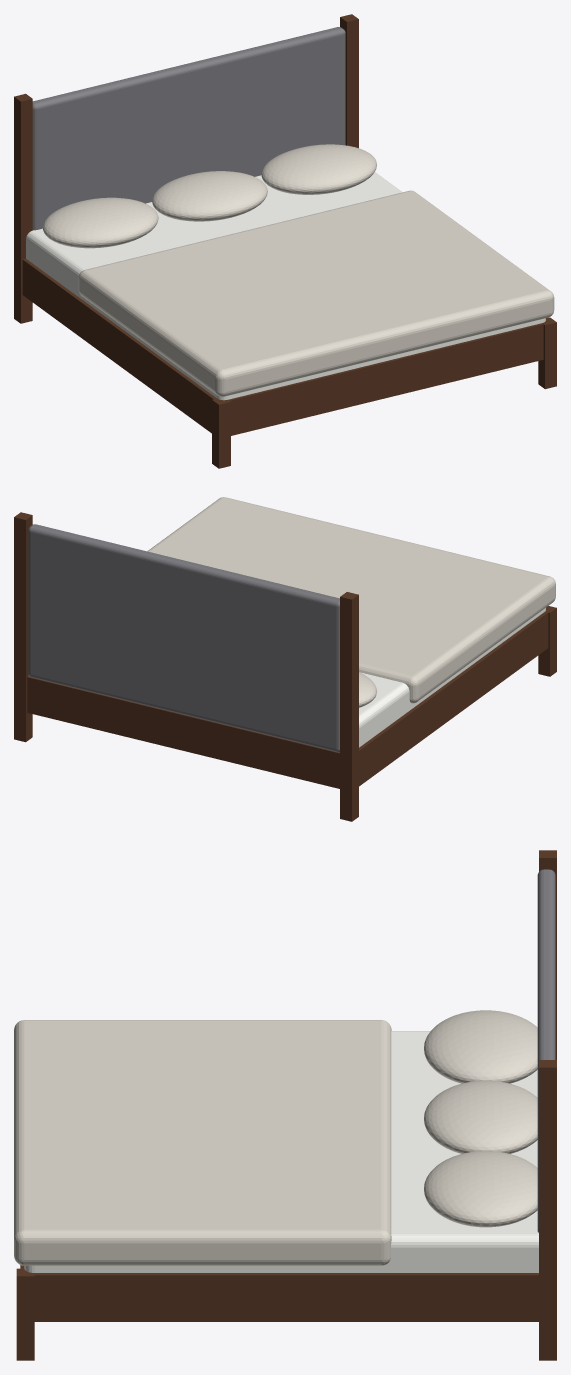
The model's file is 029_king_bed_with_upholstered_headboard.glb.
3 views of the same model, one above another, from view 1: azimuth 30°, elevation 25°; view 2: azimuth 150°, elevation 25°; view 3: azimuth 270°, elevation 25° (orthographic). The views are drawn at different scales.
Parts seen in each view (by area): view 1: 018_bed_duvet, 008_bed_headboard, 007_bed_foot_rail, 017_bed_mattress, 004_bed_side_rail_l, 020_bed_pillow_2, 019_bed_pillow_1, 021_bed_pillow_3, 000_bed_head_post, 002_bed_head_post, 001_bed_foot_post, 003_bed_foot_post; view 2: 008_bed_headboard, 018_bed_duvet, 006_bed_head_rail, 004_bed_side_rail_l, 000_bed_head_post, 002_bed_head_post, 017_bed_mattress, 001_bed_foot_post, 019_bed_pillow_1; view 3: 018_bed_duvet, 005_bed_side_rail_r, 017_bed_mattress, 021_bed_pillow_3, 019_bed_pillow_1, 020_bed_pillow_2, 002_bed_head_post, 008_bed_headboard, 003_bed_foot_post, 000_bed_head_post.
Boxes of the visible parts, x1=… form: 018_bed_duvet: x1=78, y1=190, x2=554, y2=396; 008_bed_headboard: x1=32, y1=27, x2=345, y2=230; 007_bed_foot_rail: x1=228, y1=323, x2=543, y2=435; 017_bed_mattress: x1=26, y1=172, x2=545, y2=400; 004_bed_side_rail_l: x1=22, y1=258, x2=216, y2=433; 020_bed_pillow_2: x1=152, y1=171, x2=267, y2=221; 019_bed_pillow_1: x1=43, y1=197, x2=158, y2=248; 021_bed_pillow_3: x1=261, y1=144, x2=376, y2=194; 000_bed_head_post: x1=14, y1=93, x2=32, y2=323; 002_bed_head_post: x1=340, y1=14, x2=358, y2=148; 001_bed_foot_post: x1=212, y1=398, x2=230, y2=468; 003_bed_foot_post: x1=538, y1=317, x2=556, y2=389; 008_bed_headboard: x1=28, y1=524, x2=339, y2=752; 018_bed_duvet: x1=147, y1=497, x2=555, y2=703; 006_bed_head_rail: x1=27, y1=676, x2=339, y2=788; 004_bed_side_rail_l: x1=359, y1=611, x2=548, y2=786; 000_bed_head_post: x1=340, y1=592, x2=358, y2=821; 002_bed_head_post: x1=14, y1=512, x2=32, y2=742; 017_bed_mattress: x1=28, y1=608, x2=545, y2=747; 001_bed_foot_post: x1=538, y1=606, x2=556, y2=676; 019_bed_pillow_1: x1=359, y1=672, x2=376, y2=707; 018_bed_duvet: x1=14, y1=1020, x2=391, y2=1265; 005_bed_side_rail_r: x1=34, y1=1273, x2=538, y2=1321; 017_bed_mattress: x1=24, y1=1031, x2=538, y2=1272; 021_bed_pillow_3: x1=424, y1=1151, x2=537, y2=1227; 019_bed_pillow_1: x1=424, y1=1010, x2=537, y2=1083; 020_bed_pillow_2: x1=424, y1=1080, x2=537, y2=1153; 002_bed_head_post: x1=539, y1=1060, x2=556, y2=1360; 008_bed_headboard: x1=537, y1=869, x2=555, y2=1232; 003_bed_foot_post: x1=16, y1=1268, x2=34, y2=1360; 000_bed_head_post: x1=539, y1=850, x2=556, y2=1059.
Bounding box in the file's own units: 2 × 1.25 × 2.1.
